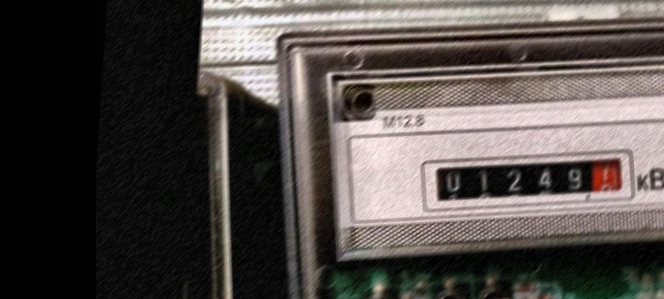0: (442, 166, 463, 193)
1: (474, 167, 491, 193)
2: (504, 167, 526, 194)
4: (537, 163, 556, 191)
7: (597, 159, 614, 184)
9: (566, 165, 585, 191)
screen: (413, 139, 650, 229)
